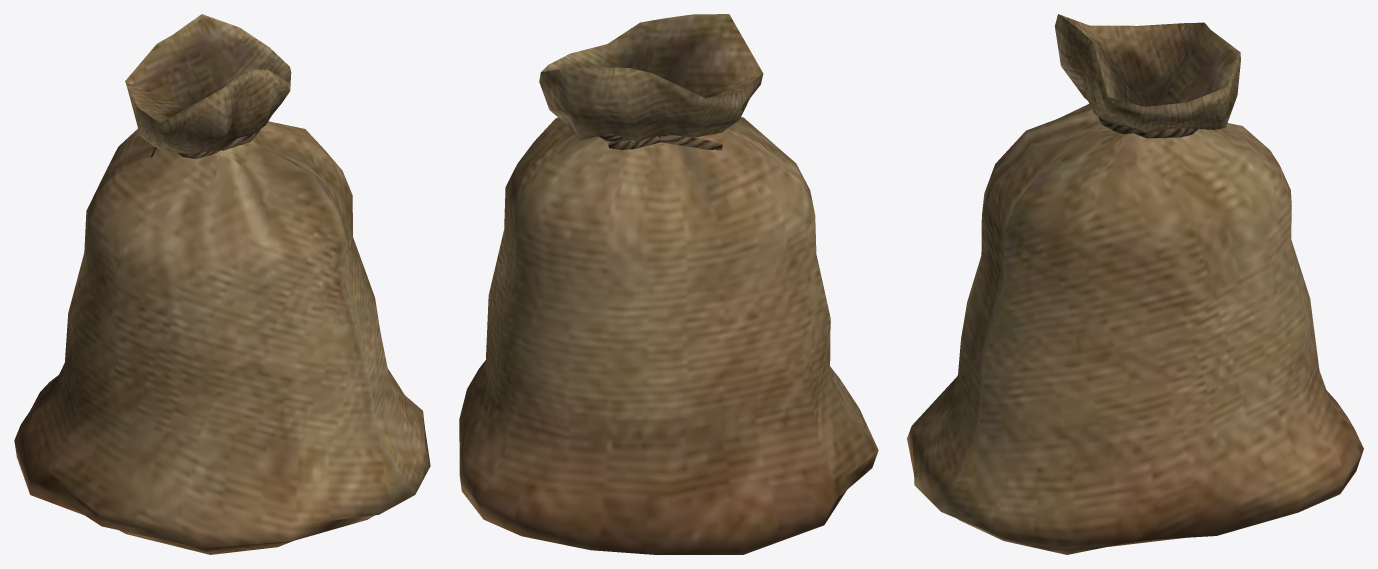
The model's file is burlap sack.glb.
The picture shows the model from 3 angles, left to right: view 1: azimuth 30°, elevation 25°; view 2: azimuth 150°, elevation 25°; view 3: azimuth 270°, elevation 25°; orthographic projection. The views are drawn at different scales.
Visible parts, largest first — view 1: Burlap Sack; view 2: Burlap Sack; view 3: Burlap Sack.
Boxes of the visible parts, <box> form: Burlap Sack: <box>14,14,430,554</box>; Burlap Sack: <box>459,14,878,554</box>; Burlap Sack: <box>907,14,1363,554</box>.
Bounding box in the file's own units: 0.3531 × 0.4088 × 0.3737.
Materials: 1 (1 with a texture image).
